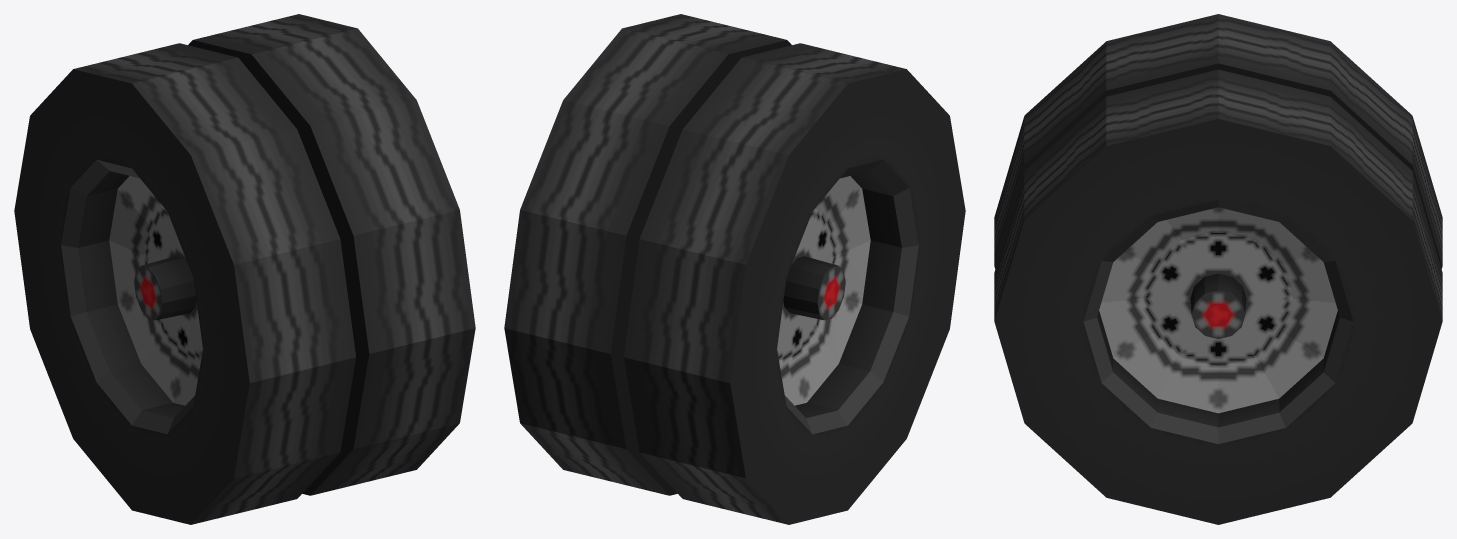
The model's file is truckwheelback.fbx.
3 renders of one model, left to right at view 1: azimuth 30°, elevation 25°; view 2: azimuth 150°, elevation 25°; view 3: azimuth 270°, elevation 25°, orthographic. The views are drawn at different scales.
Parts seen in each view (by area): view 1: Wheel_truckback; view 2: Wheel_truckback; view 3: Wheel_truckback.
Part boxes in pixels (box(x1,y1,x2,y2)): Wheel_truckback: box(14, 14, 475, 524); Wheel_truckback: box(504, 14, 965, 524); Wheel_truckback: box(994, 14, 1442, 524).
Bounding box in the file's own units: 0.5856 × 1.06 × 1.06.
